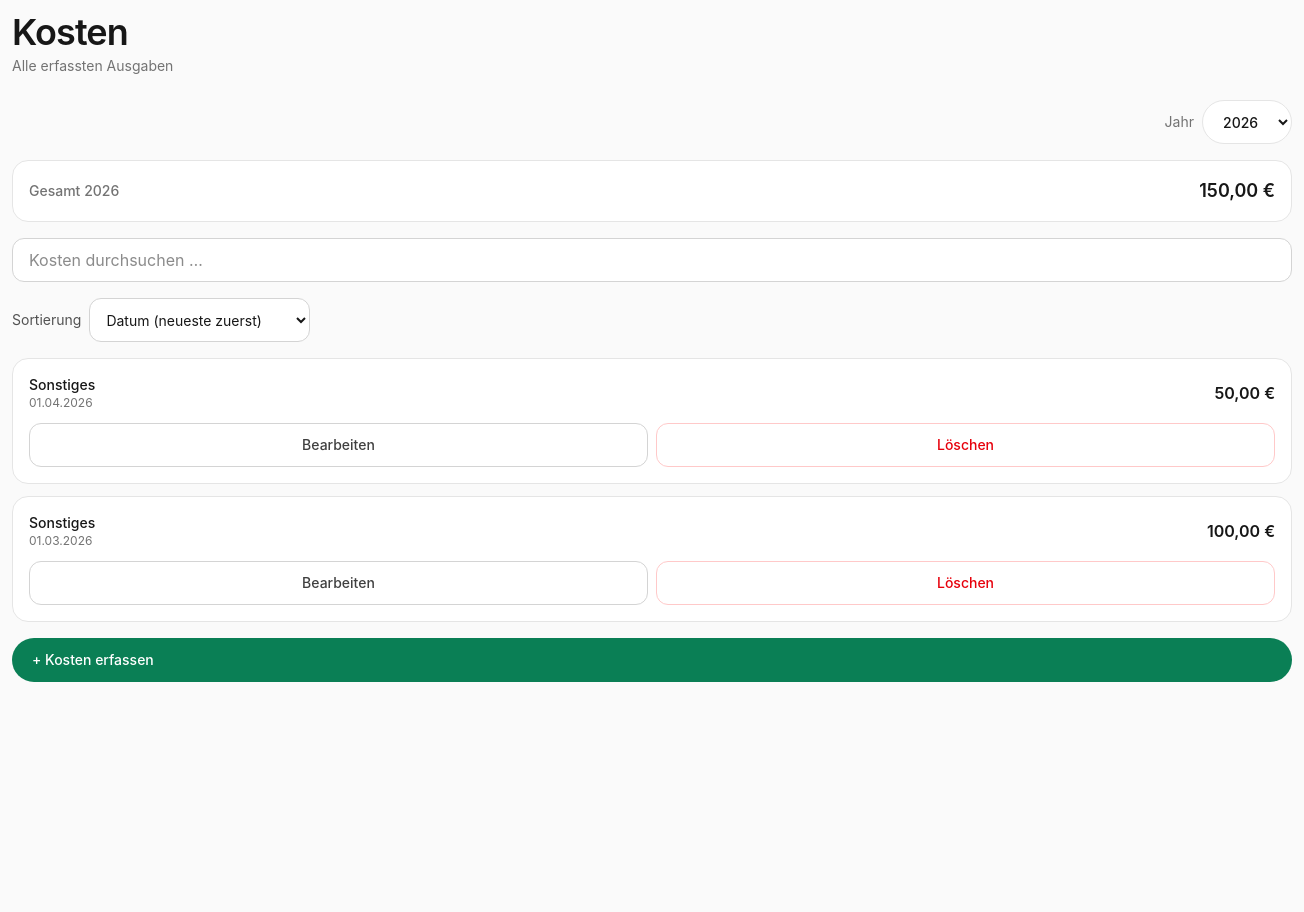
CostsPage › shows a no-matches state for an unmatched search without changing the year total
expect the text "150,00 €" is shown: met, box [1199,177,1275,205]
In the search field labelled "Kosten durchsuchen": (652, 260) [12,238,1292,282], type "does-not-exist"
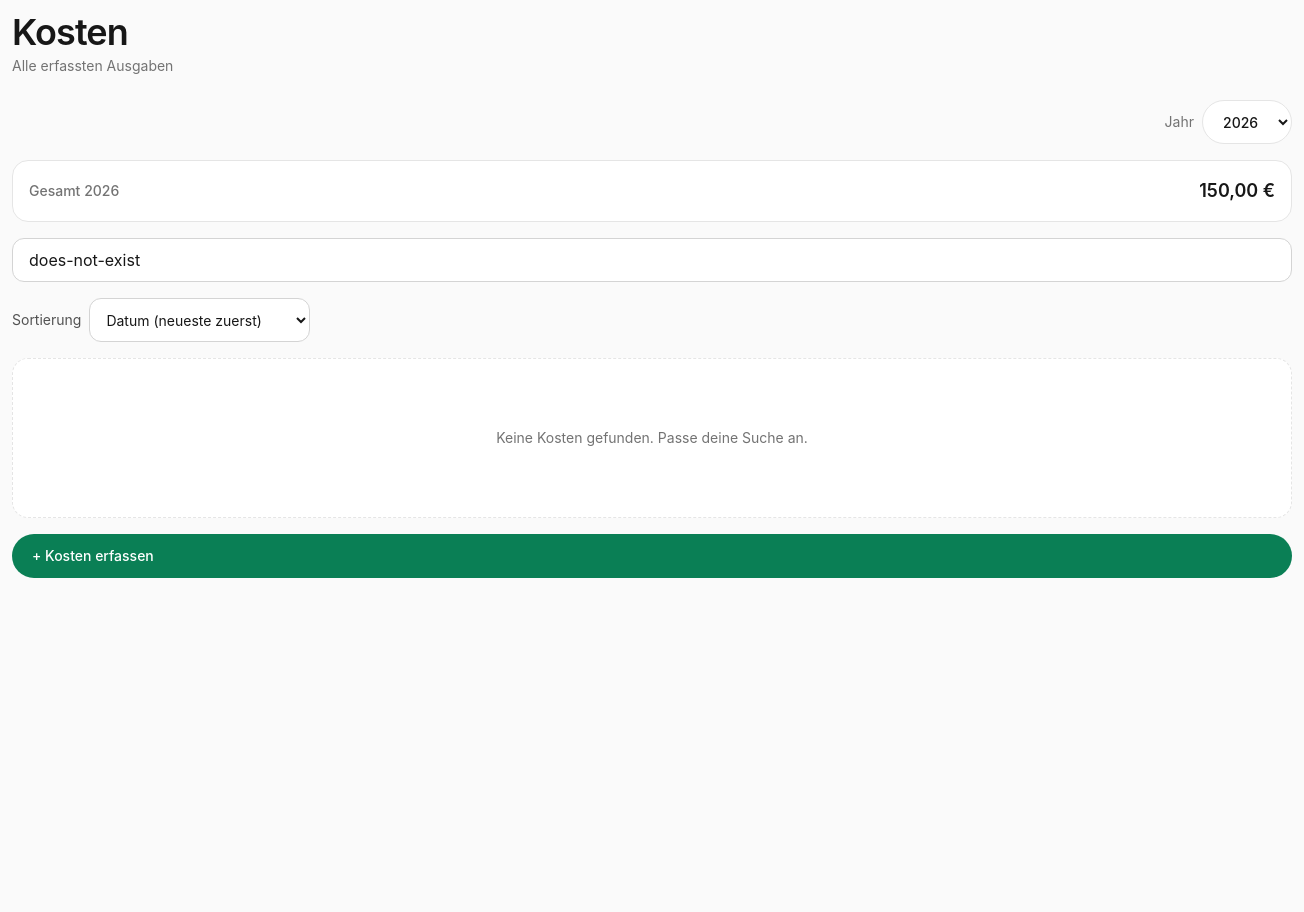
expect the text "150,00 €" is shown: met, box [1199,177,1275,205]
expect the text "Keine Kosten gefunden. Passe deine Suche an." is shown: met, box [496,428,808,448]
